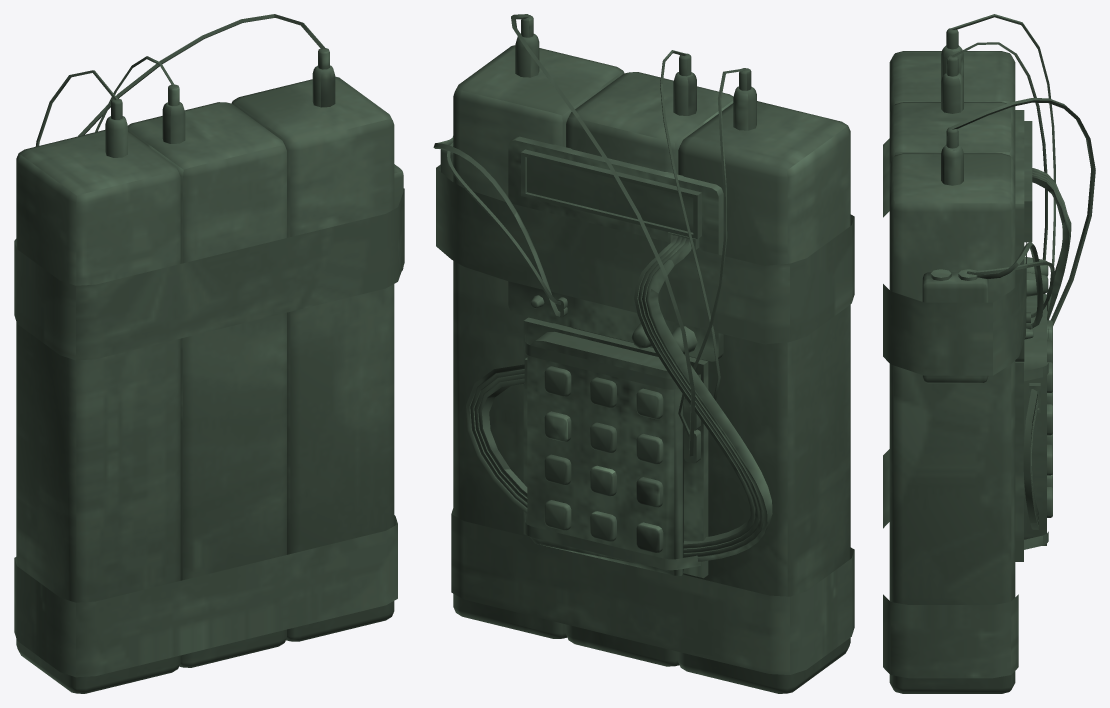
File: bomb.obj
The picture shows the model from 3 angles, left to right: view 1: azimuth 30°, elevation 25°; view 2: azimuth 150°, elevation 25°; view 3: azimuth 270°, elevation 25°; orthographic projection. The views are drawn at different scales.
Parts seen in each view (by area): view 1: C4_Bomb_Cube.002; view 2: C4_Bomb_Cube.002; view 3: C4_Bomb_Cube.002.
Boxes of the visible parts, x1=… form: C4_Bomb_Cube.002: x1=14, y1=14, x2=404, y2=693; C4_Bomb_Cube.002: x1=433, y1=14, x2=854, y2=693; C4_Bomb_Cube.002: x1=883, y1=14, x2=1095, y2=693.
Size of the model in its own units: 0.2076 by 0.325 by 0.1106.
